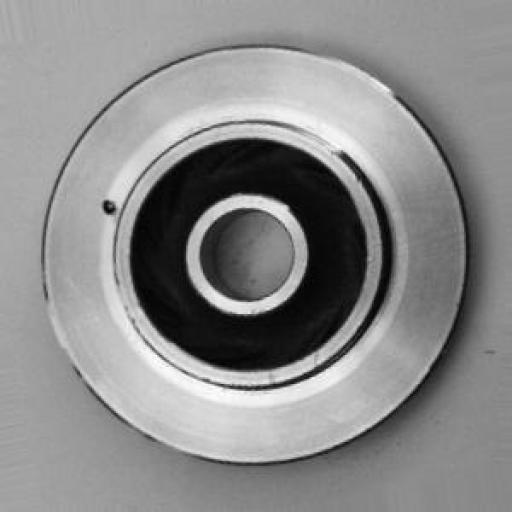defect: (80, 181, 132, 237)
